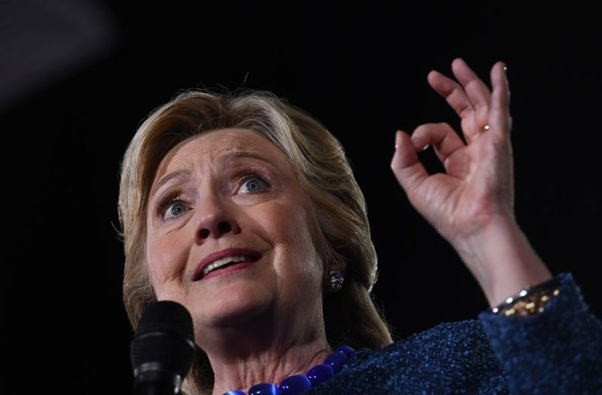oksign: (388, 58, 516, 239)
